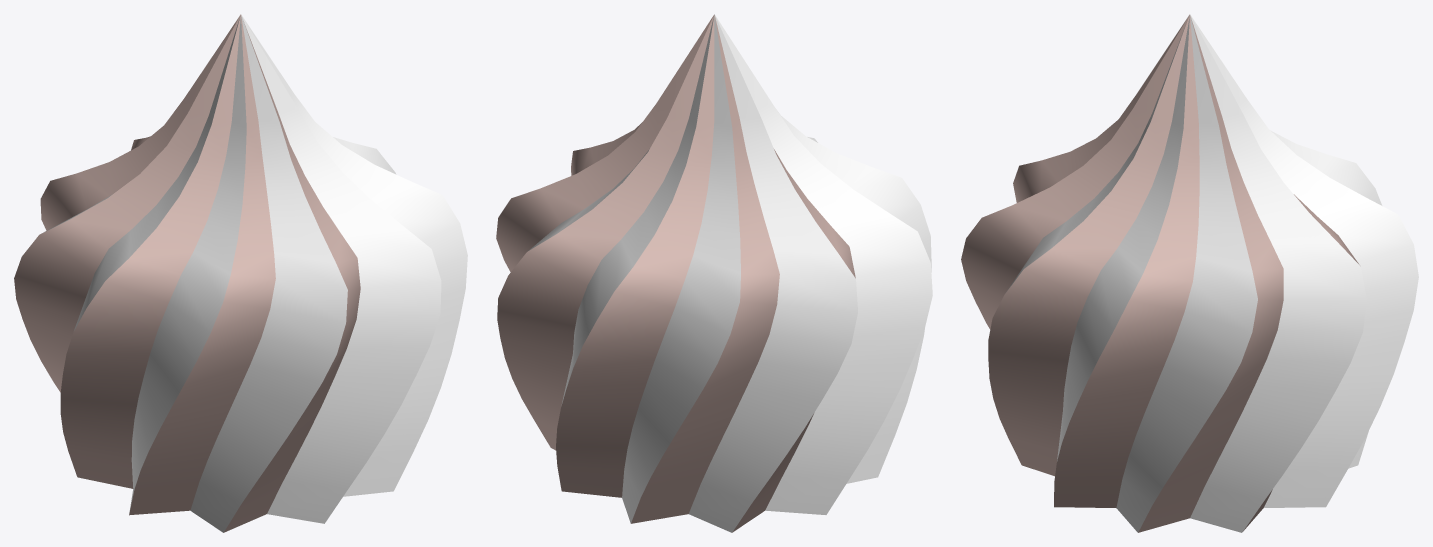
Rendered from SM_WhippedCream_2.fbx.
The picture shows the model from 3 angles, left to right: view 1: azimuth 30°, elevation 25°; view 2: azimuth 150°, elevation 25°; view 3: azimuth 270°, elevation 25°; orthographic projection.
Visible parts, largest first — view 1: SM_WhippedCream_2; view 2: SM_WhippedCream_2; view 3: SM_WhippedCream_2.
Part boxes in pixels (x1,y1,x2,y2): SM_WhippedCream_2: [14, 14, 467, 532]; SM_WhippedCream_2: [496, 14, 932, 532]; SM_WhippedCream_2: [961, 14, 1418, 532].
Size of the model in its own units: 201 by 223 by 205.
Materials: 1 (1 with a texture image).
